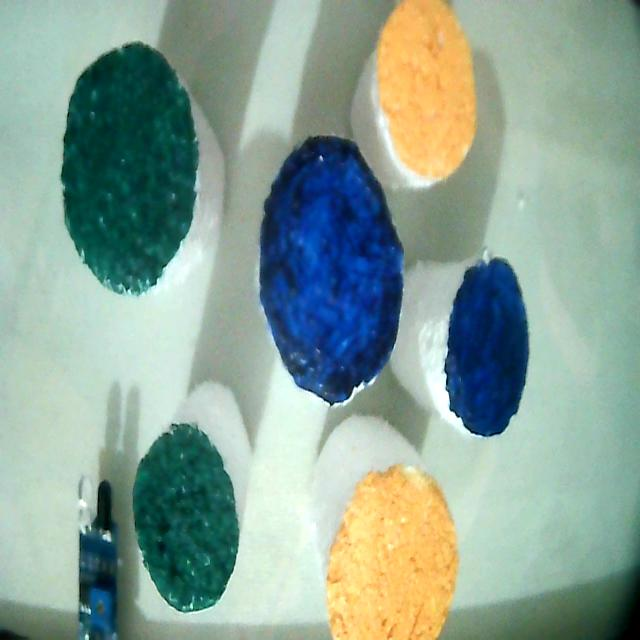blue: (260, 136, 403, 404), (444, 259, 528, 436)
green: (62, 44, 197, 294), (133, 423, 238, 612)
yellow: (326, 465, 458, 639), (376, 0, 475, 178)
